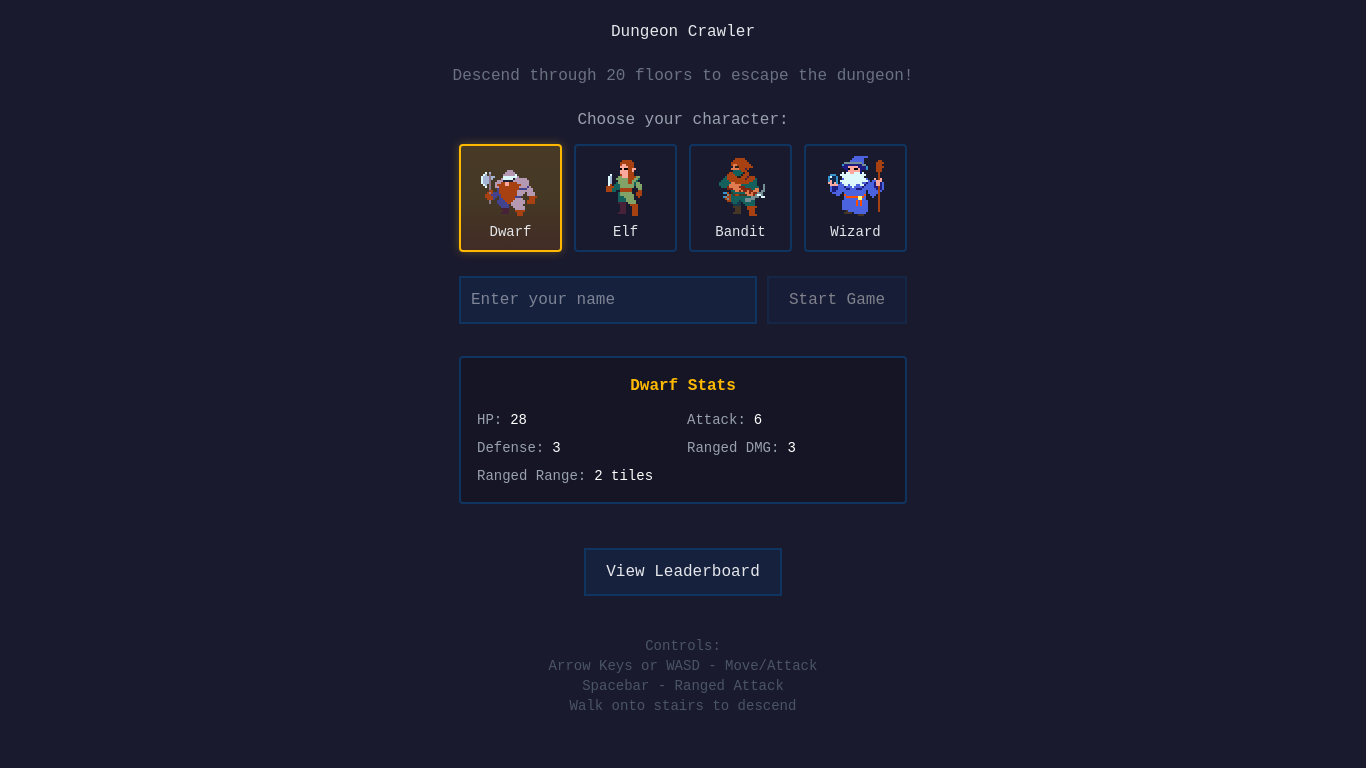
Test: browser gameplay smoke test › shows conflict resynchronization without replaying the rejected input
The width and height of the screenshot is (1366, 768).
In the field: (608, 300) left=459, top=276, right=757, bottom=324, type "Ada"
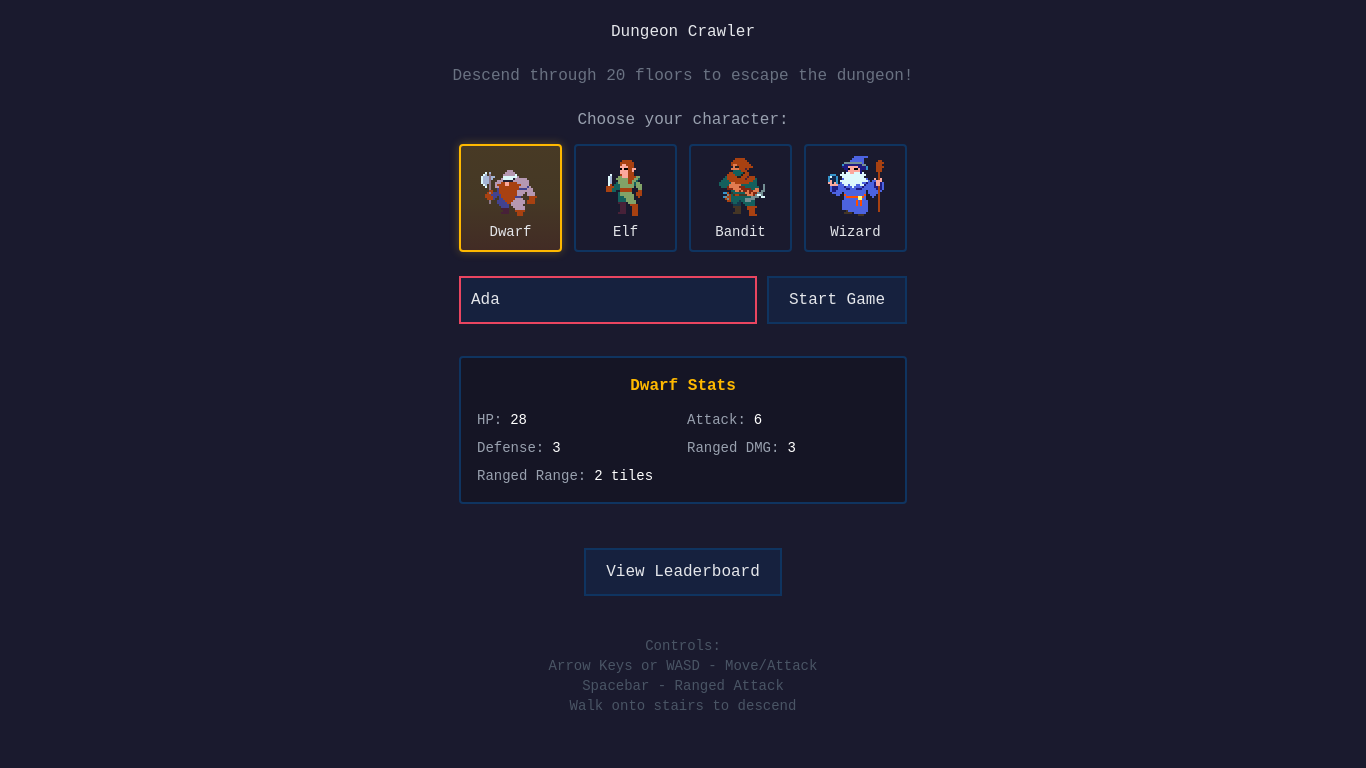
Click the button "Start Game": (837, 300) left=767, top=276, right=907, bottom=324
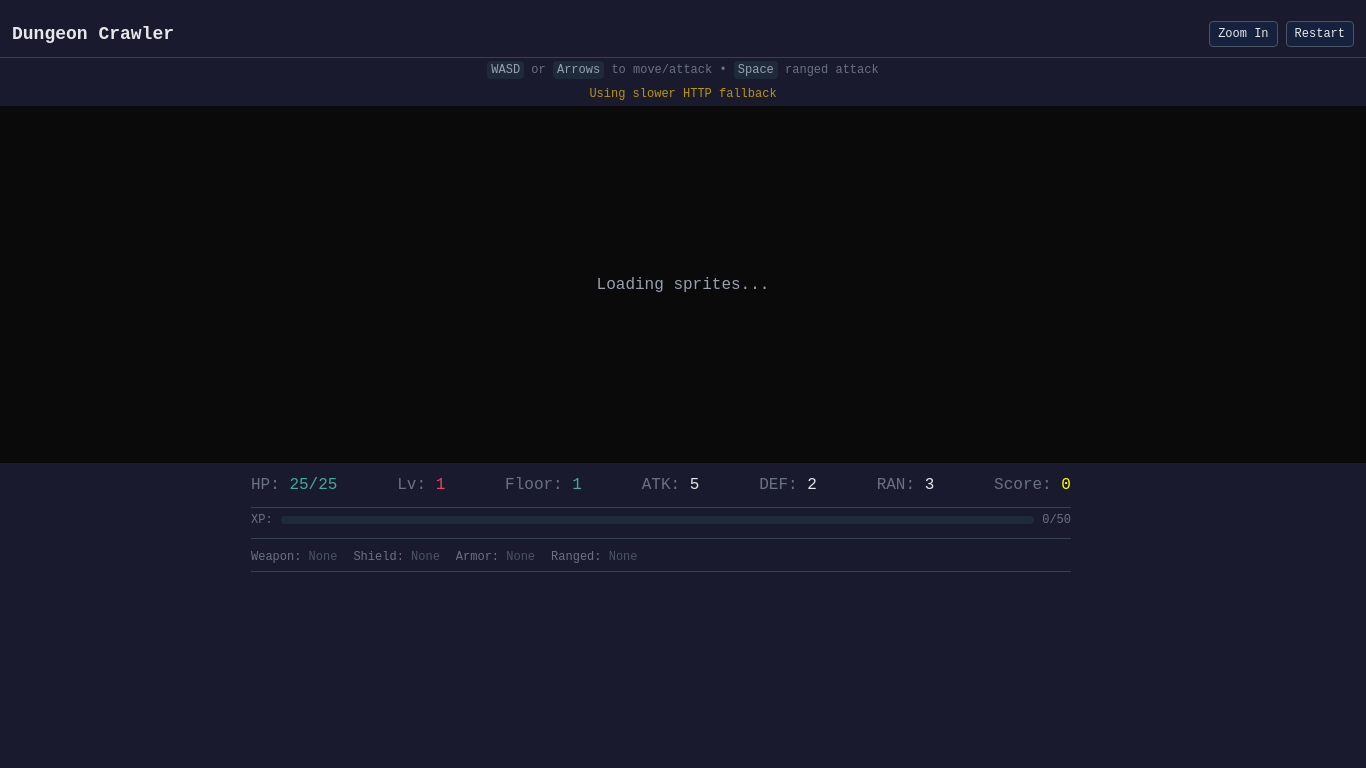
Press ArrowRight in the element named "Dungeon Crawler game"
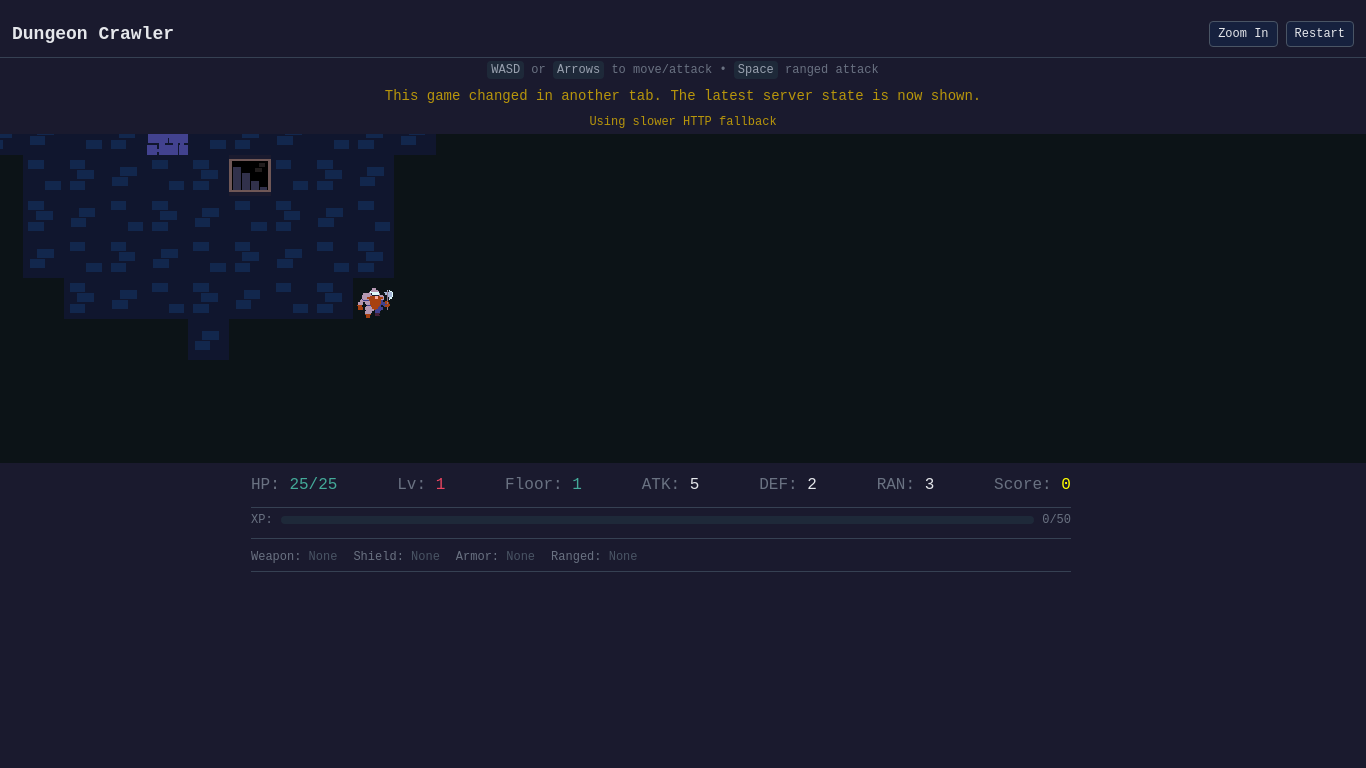
Check: the text "This game changed in another tab. The latest server state is now shown." is shown, box left=385, top=88, right=981, bottom=104
